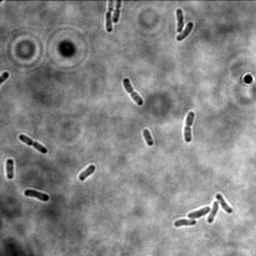Dividing: (121, 76, 146, 106), (18, 132, 49, 155), (182, 110, 196, 143), (105, 1, 116, 34), (111, 1, 123, 25)
Rod: (215, 192, 234, 214), (23, 188, 50, 203), (187, 204, 212, 220), (176, 20, 195, 41), (76, 164, 96, 182), (207, 200, 220, 224), (141, 127, 155, 147), (173, 217, 197, 228), (175, 7, 184, 33), (5, 158, 15, 180)
